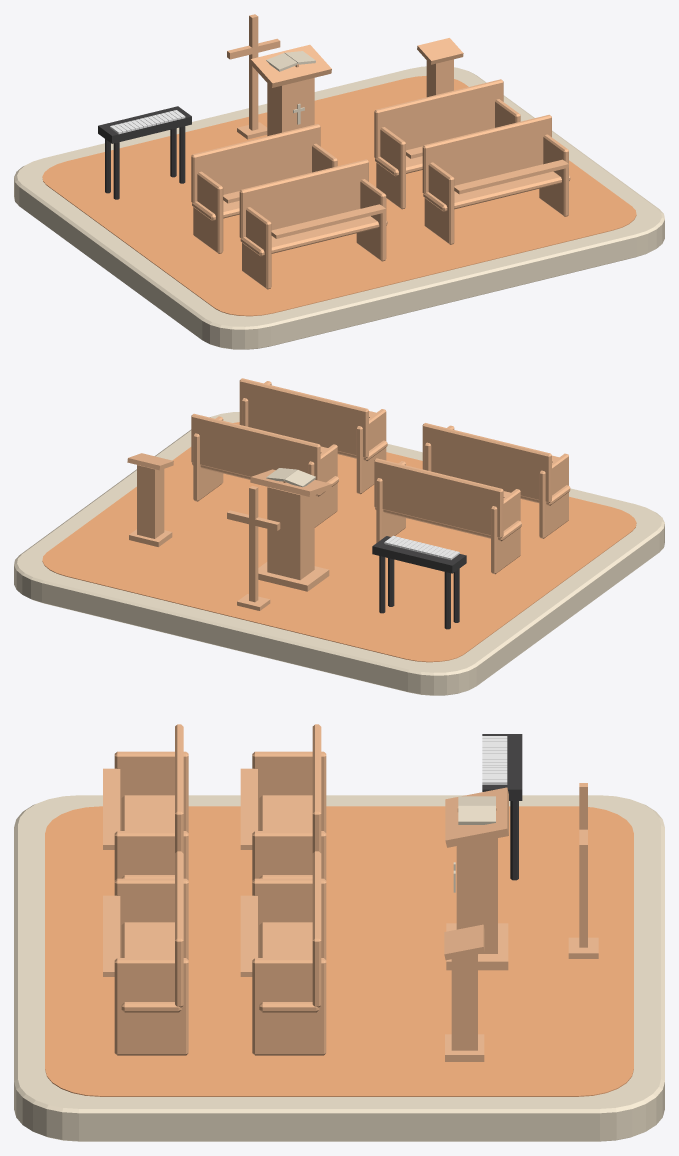
The model's file is room.fbx.
3 renders of one model, top to bottom at view 1: azimuth 30°, elevation 25°; view 2: azimuth 150°, elevation 25°; view 3: azimuth 270°, elevation 25°, orthographic. The views are drawn at different scales.
Visible parts, largest first — view 1: COM-02 Floor Surface, COM-01 Rounded Base Direct, Back.003, Back.002, Back.001, Back, Body, End panel.006, End panel, End panel.004, Seat.002, Seat.003 (+12 smaller); view 2: COM-02 Floor Surface, COM-01 Rounded Base Direct, Back, Back.002, Back.003, Back.001, Body, Body.001, End panel, End panel.004, End panel.006, End panel.002 (+9 smaller); view 3: COM-02 Floor Surface, COM-01 Rounded Base Direct, End panel.007, End panel.003, Body, End panel, End panel.004, End panel.006, End panel.002, End panel.005, End panel.001, Seat.001 (+20 smaller).
Boxes of the visible parts, x1,y1,x2,y2 form: COM-02 Floor Surface: (42,76,636,316); COM-01 Rounded Base Direct: (14,66,664,349); Back.003: (422,114,551,193); Back.002: (239,159,368,238); Back.001: (374,79,503,158); Back: (191,124,320,202); Body: (267,78,314,135); End panel.006: (424,162,454,244); End panel: (193,171,223,253); End panel.004: (242,207,271,289); Seat.002: (240,209,387,256); Seat.003: (423,164,570,211); COM-02 Floor Surface: (42,422,636,662); COM-01 Rounded Base Direct: (14,412,664,695); Back: (374,458,503,538); Back.002: (422,423,551,502); Back.003: (239,378,368,458); Back.001: (191,413,320,480); Body: (267,487,314,579); Body.001: (137,465,164,538); End panel: (491,489,520,574); End panel.004: (539,453,568,538); End panel.006: (356,409,386,494); End panel.002: (308,444,337,527); COM-02 Floor Surface: (45,806,633,1096); COM-01 Rounded Base Direct: (14,795,664,1141); End panel.007: (114,958,188,1055); End panel.003: (252,958,326,1055); Body: (456,838,497,953); End panel: (252,751,326,832); End panel.004: (114,751,188,832); End panel.006: (114,878,188,959); End panel.002: (252,878,326,959); End panel.005: (114,831,188,880); End panel.001: (252,831,326,880); Seat.001: (259,922,319,1012).
Bounding box in the file's own units: 600 × 176 × 520.
